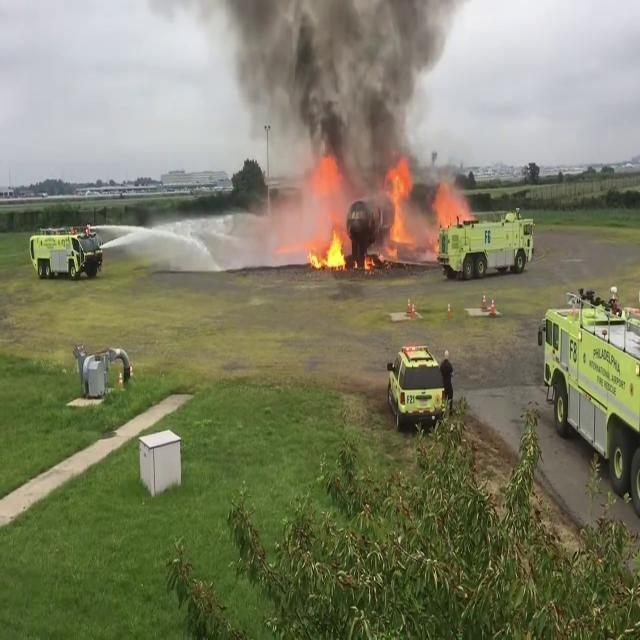Fire: (304, 158, 352, 274), (382, 156, 418, 254)
Smoke: (216, 0, 454, 178)
